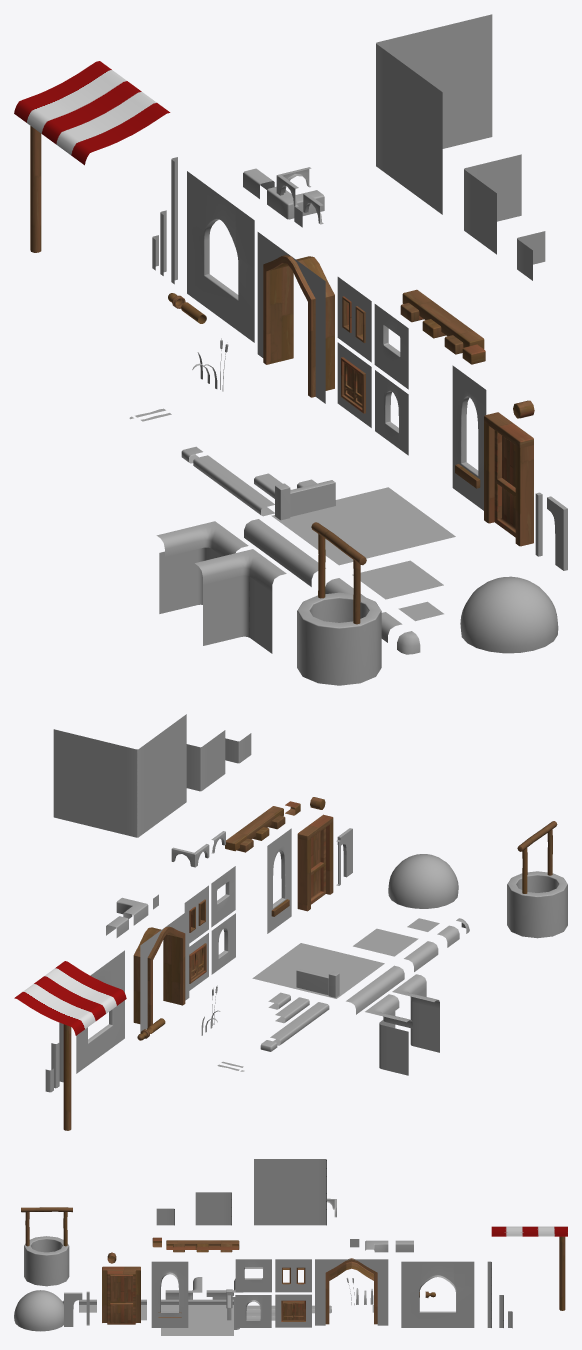
File: ModularAssets2.fbx
3 renders of one model, top to bottom at view 1: azimuth 30°, elevation 25°; view 2: azimuth 150°, elevation 25°; view 3: azimuth 270°, elevation 25°, orthographic. The views are drawn at different scales.
Parts seen in each view (by area): view 1: CorneredWallx8, WellWater, CanopyCloth, Door_BIG, Floor_8x8, Window_Big, CornerFlorr_Inner, RoofOrnament, Door_Small, CorneredWallx4, Window_Medium, CornerFloor_InnerMid (+15 smaller); view 2: CorneredWallx8, WellWater, CanopyCloth, Door_BIG, Floor_8x8, RoofOrnament, Door_Small, Window_Big, CornerFlorr_Inner, CorneredWallx4, Window_Medium, CornerFloor_InnerMid (+14 smaller); view 3: CorneredWallx8, Window_Big, Door_BIG, WellWater, Door_Small, Window_Medium, RoofOrnament, Floor_8x8, Window_Small4, CorneredWallx4, Window_Small3, Window_Small2 (+11 smaller).
Boxes of the visible parts, x1,y1,x2,y2 form: CorneredWallx8: [376, 14, 492, 214]; WellWater: [297, 522, 381, 685]; CanopyCloth: [14, 61, 170, 165]; Door_BIG: [257, 232, 334, 403]; Floor_8x8: [271, 487, 455, 565]; Window_Big: [187, 171, 254, 342]; CornerFlorr_Inner: [195, 549, 286, 653]; RoofOrnament: [460, 576, 558, 653]; Door_Small: [484, 412, 533, 546]; CorneredWallx4: [464, 154, 521, 254]; Window_Medium: [452, 365, 486, 510]; CornerFloor_InnerMid: [159, 547, 222, 613]; CorneredWallx8: [53, 714, 186, 837]; WellWater: [507, 821, 567, 938]; CanopyCloth: [14, 961, 126, 1035]; Door_BIG: [133, 910, 189, 1033]; Floor_8x8: [252, 943, 384, 998]; RoofOrnament: [388, 854, 458, 908]; Door_Small: [297, 814, 333, 911]; Window_Big: [76, 950, 124, 1073]; CornerFlorr_Inner: [392, 974, 439, 1052]; CorneredWallx4: [186, 730, 225, 791]; Window_Medium: [267, 828, 291, 933]; CornerFloor_InnerMid: [379, 1011, 408, 1075]; CorneredWallx8: [254, 1159, 326, 1225]; Window_Big: [401, 1261, 474, 1327]; Door_BIG: [315, 1258, 388, 1325]; WellWater: [21, 1207, 72, 1286]; Door_Small: [102, 1266, 140, 1324]; Window_Medium: [151, 1261, 188, 1327]; RoofOrnament: [14, 1290, 63, 1331]; Floor_8x8: [161, 1305, 233, 1335]; Window_Small4: [275, 1294, 311, 1327]; CorneredWallx4: [195, 1192, 231, 1225]; Window_Small3: [275, 1259, 311, 1292]; Window_Small2: [235, 1259, 271, 1292].
Bounding box in the file's own units: 9.2 × 8.61 × 18.22.
